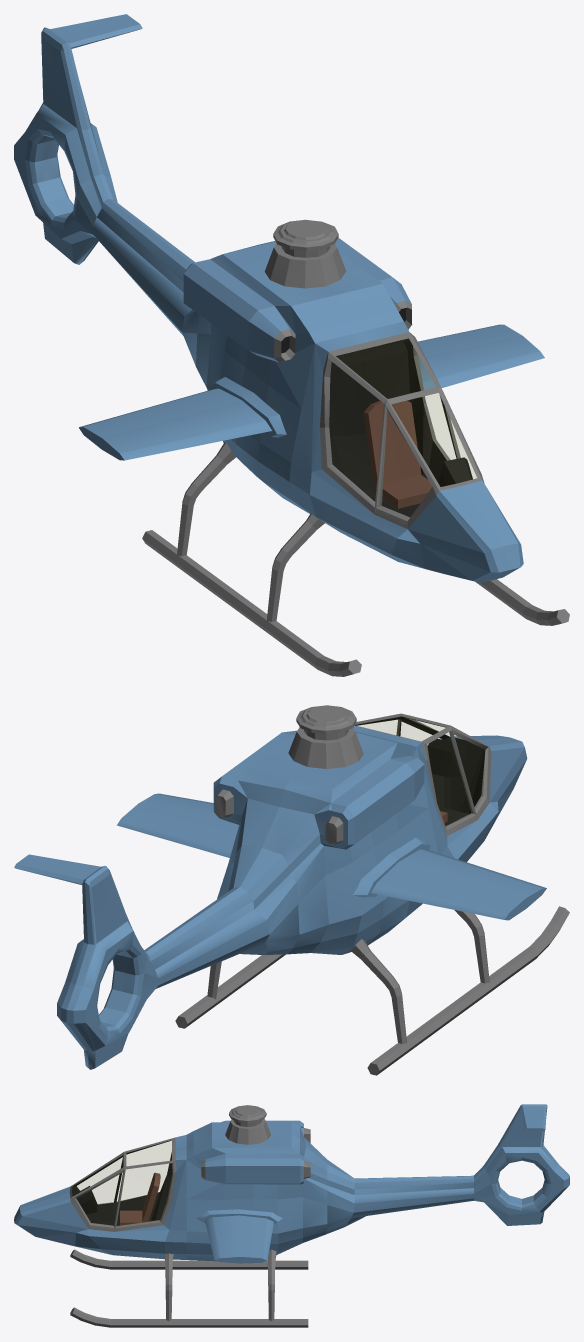
File: aircraft 10.glb
3 renders of one model, top to bottom at view 1: azimuth 30°, elevation 25°; view 2: azimuth 150°, elevation 25°; view 3: azimuth 270°, elevation 25°, orthographic. The views are drawn at different scales.
Visible parts, largest first — view 1: Fuselage, Skids, seat, RotorShaft; view 2: Fuselage, Skids, RotorShaft, instrument panel; view 3: Fuselage, Skids, seat, RotorShaft, instrument panel.
Boxes of the visible parts, x1,y1,x2,y2 form: Fuselage: (14, 14, 544, 582); Skids: (142, 442, 569, 676); seat: (363, 398, 432, 508); RotorShaft: (273, 219, 338, 257); Fuselage: (14, 713, 546, 1069); Skids: (175, 906, 569, 1075); RotorShaft: (296, 705, 356, 740); instrument panel: (427, 738, 465, 777); Fuselage: (14, 1104, 569, 1263); Skids: (70, 1249, 308, 1327); seat: (120, 1172, 160, 1225); RotorShaft: (229, 1105, 266, 1126); instrument panel: (75, 1186, 97, 1214).
Size of the model in its own units: 4.93 by 3.79 by 9.86.
